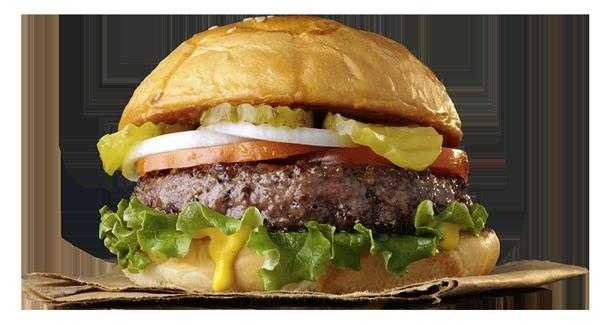hamburger: (113, 14, 489, 289)
